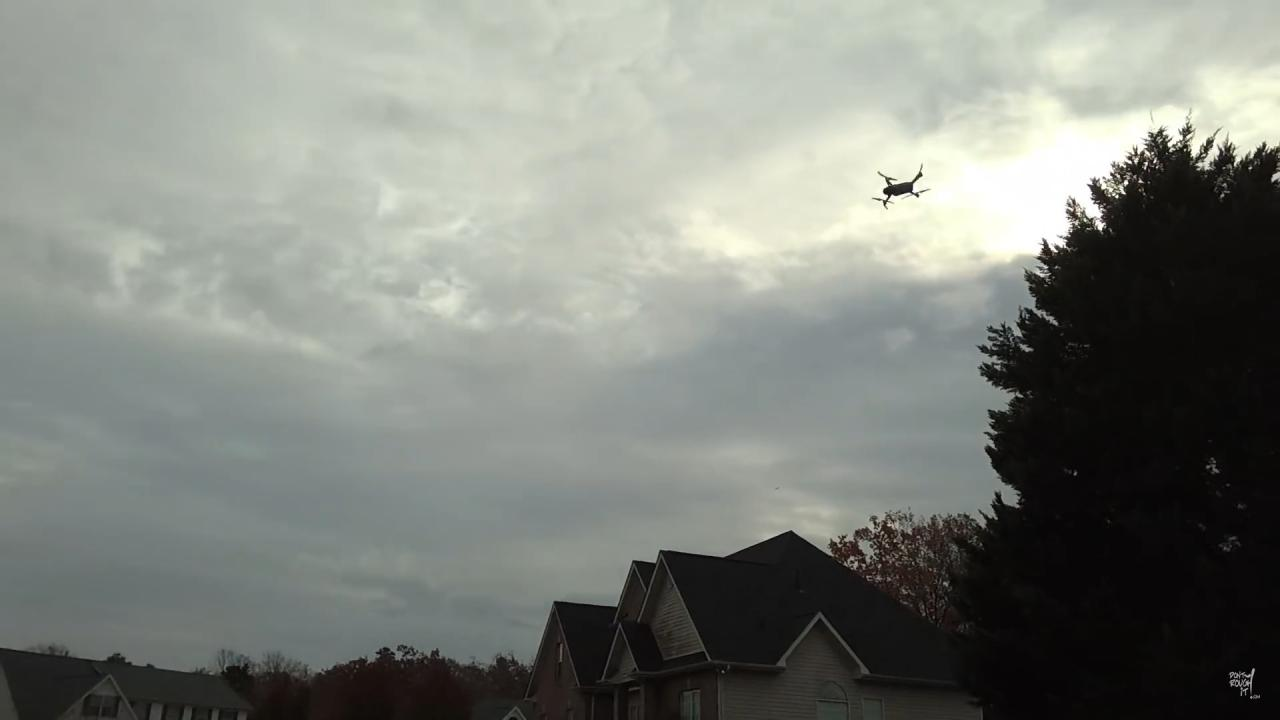Drone: (864, 156, 933, 218)
